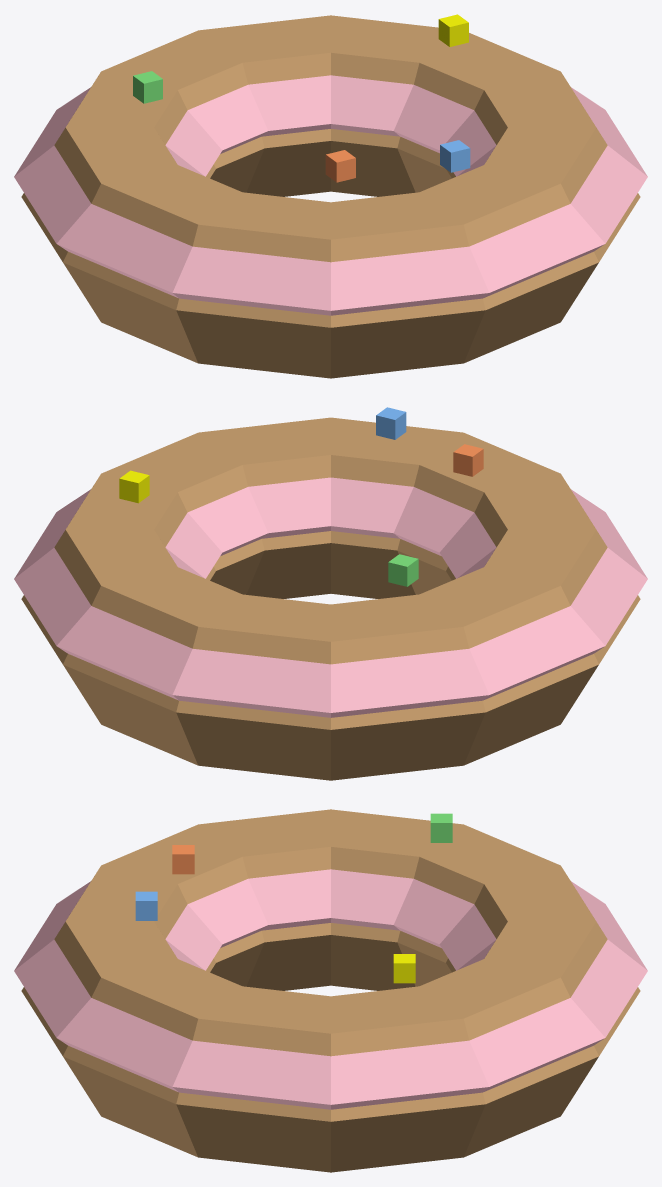
Rendered from donut.glb.
3 renders of one model, top to bottom at view 1: azimuth 30°, elevation 25°; view 2: azimuth 150°, elevation 25°; view 3: azimuth 270°, elevation 25°, orthographic.
Visible parts, largest first — view 1: Torus, Torus.001, Cube.002, Cube, Cube.003, Cube.001; view 2: Torus, Torus.001, Cube.002, Cube.003, Cube, Cube.001; view 3: Torus, Torus.001, Cube.003, Cube, Cube.001, Cube.002.
Part boxes in pixels (x1,y1,x2,y2): Torus: [21, 15, 640, 378]; Torus.001: [14, 75, 647, 315]; Cube.002: [440, 140, 470, 172]; Cube: [438, 14, 468, 46]; Cube.003: [325, 150, 355, 182]; Cube.001: [133, 71, 162, 103]; Torus: [21, 417, 640, 780]; Torus.001: [14, 477, 647, 717]; Cube.002: [376, 407, 406, 439]; Cube.003: [453, 444, 483, 476]; Cube: [119, 470, 149, 503]; Cube.001: [388, 554, 418, 586]; Torus: [21, 809, 640, 1172]; Torus.001: [14, 869, 647, 1109]; Cube.003: [172, 845, 194, 874]; Cube: [393, 954, 415, 983]; Cube.001: [430, 813, 452, 842]; Cube.002: [135, 891, 157, 920].
Bounding box in the file's own units: 0.86 × 0.2689 × 0.86.
